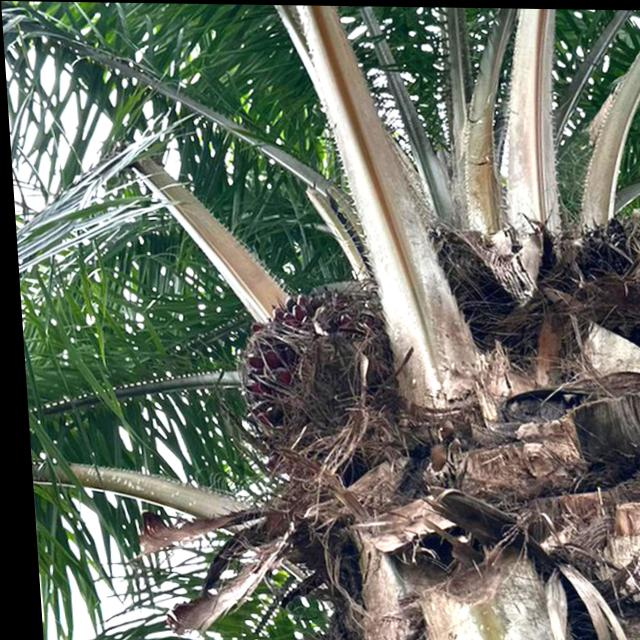ripe: (219, 271, 404, 457)
